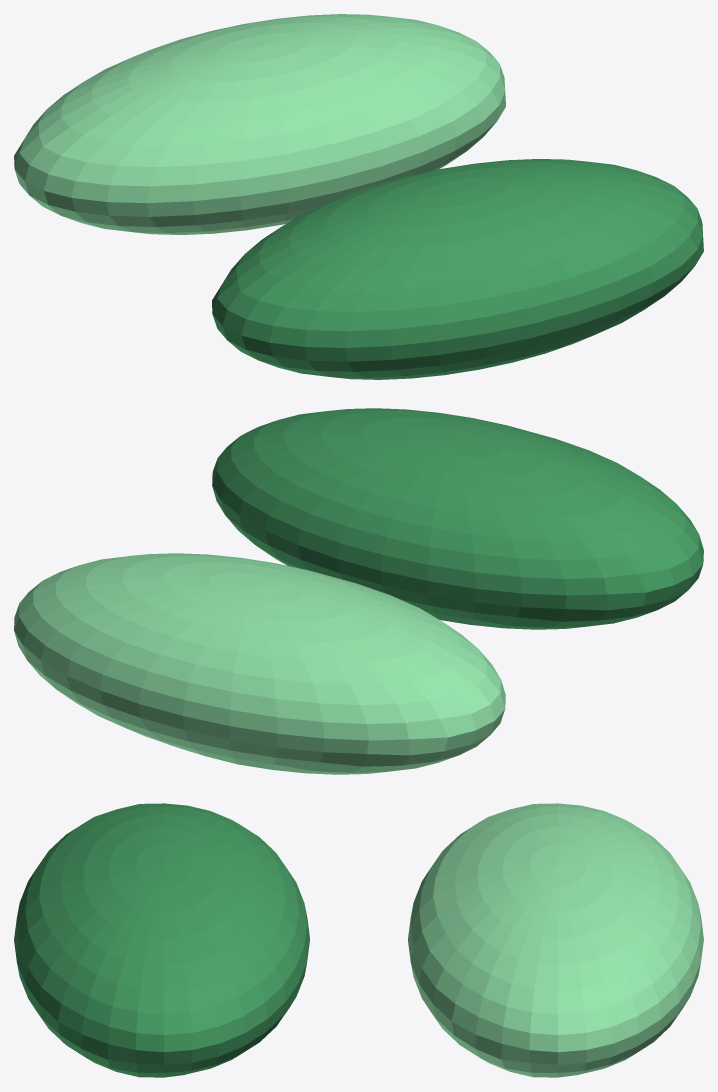
File: blob3.glb
3 views of the same model, one above another, from view 1: azimuth 30°, elevation 25°; view 2: azimuth 150°, elevation 25°; view 3: azimuth 270°, elevation 25° (orthographic).
Parts seen in each view (by area): view 1: Sphere.001, Sphere.002; view 2: Sphere.002, Sphere.001; view 3: Sphere.002, Sphere.001.
Boxes of the visible parts, x1,y1,x2,y2 form: Sphere.001: (212,159,703,379); Sphere.002: (14,14,505,234); Sphere.002: (14,553,505,774); Sphere.001: (212,408,703,629); Sphere.002: (408,803,703,1077); Sphere.001: (14,803,309,1077).
Size of the model in its own units: 2.1 by 0.6596 by 2.68.
